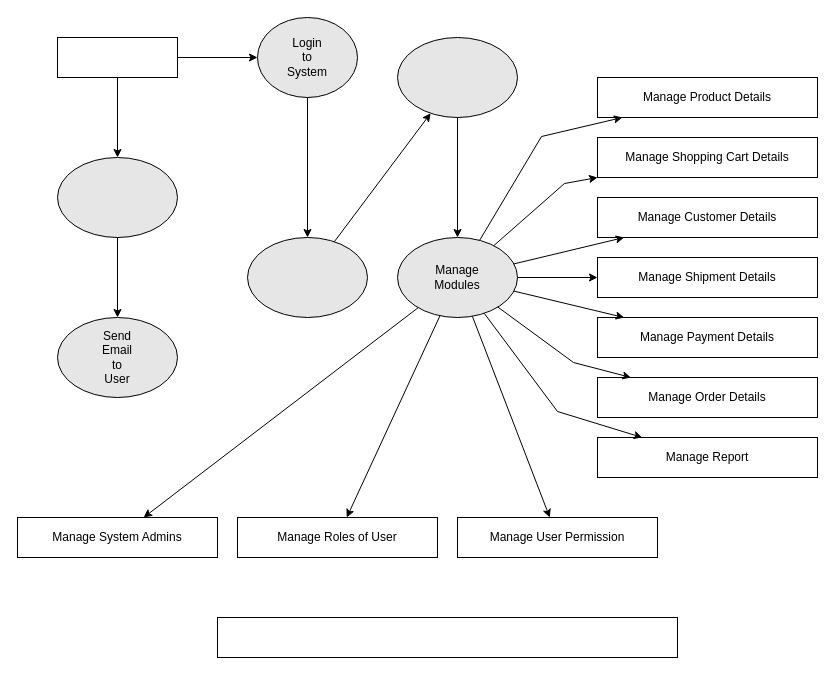
Some shapes in this 835 by 675 pixel diagram are drawn without their labels. Here are the shapes that lost their labels. From the top down, the centre of each, then its label:
At (117,57): "Admin".
At (457,77): "Check Roles of Access".
At (117,197): "Forgot Password".
At (307,277): "Check Credentials".
At (447,637): "Second Level DFD - E commerce".
